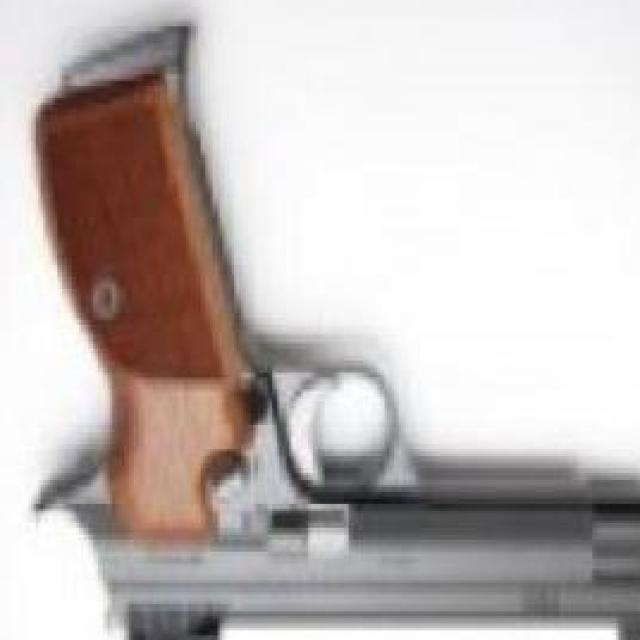pistol: (29, 34, 640, 640)
